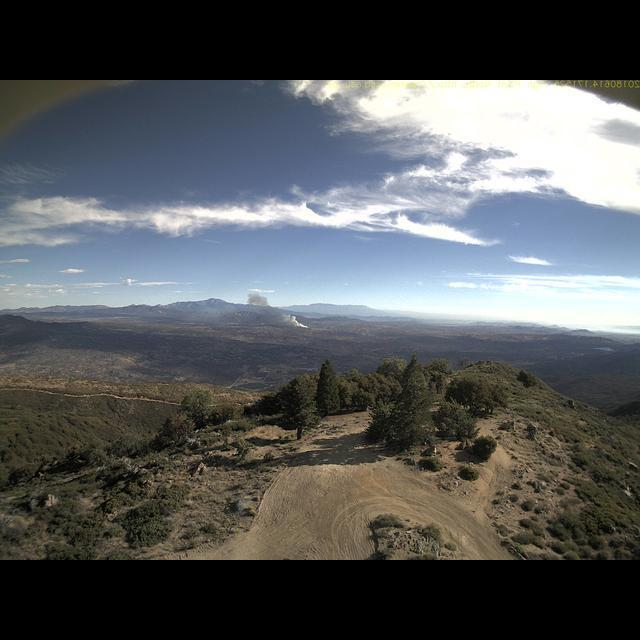Smoke: (243, 288, 315, 329)
